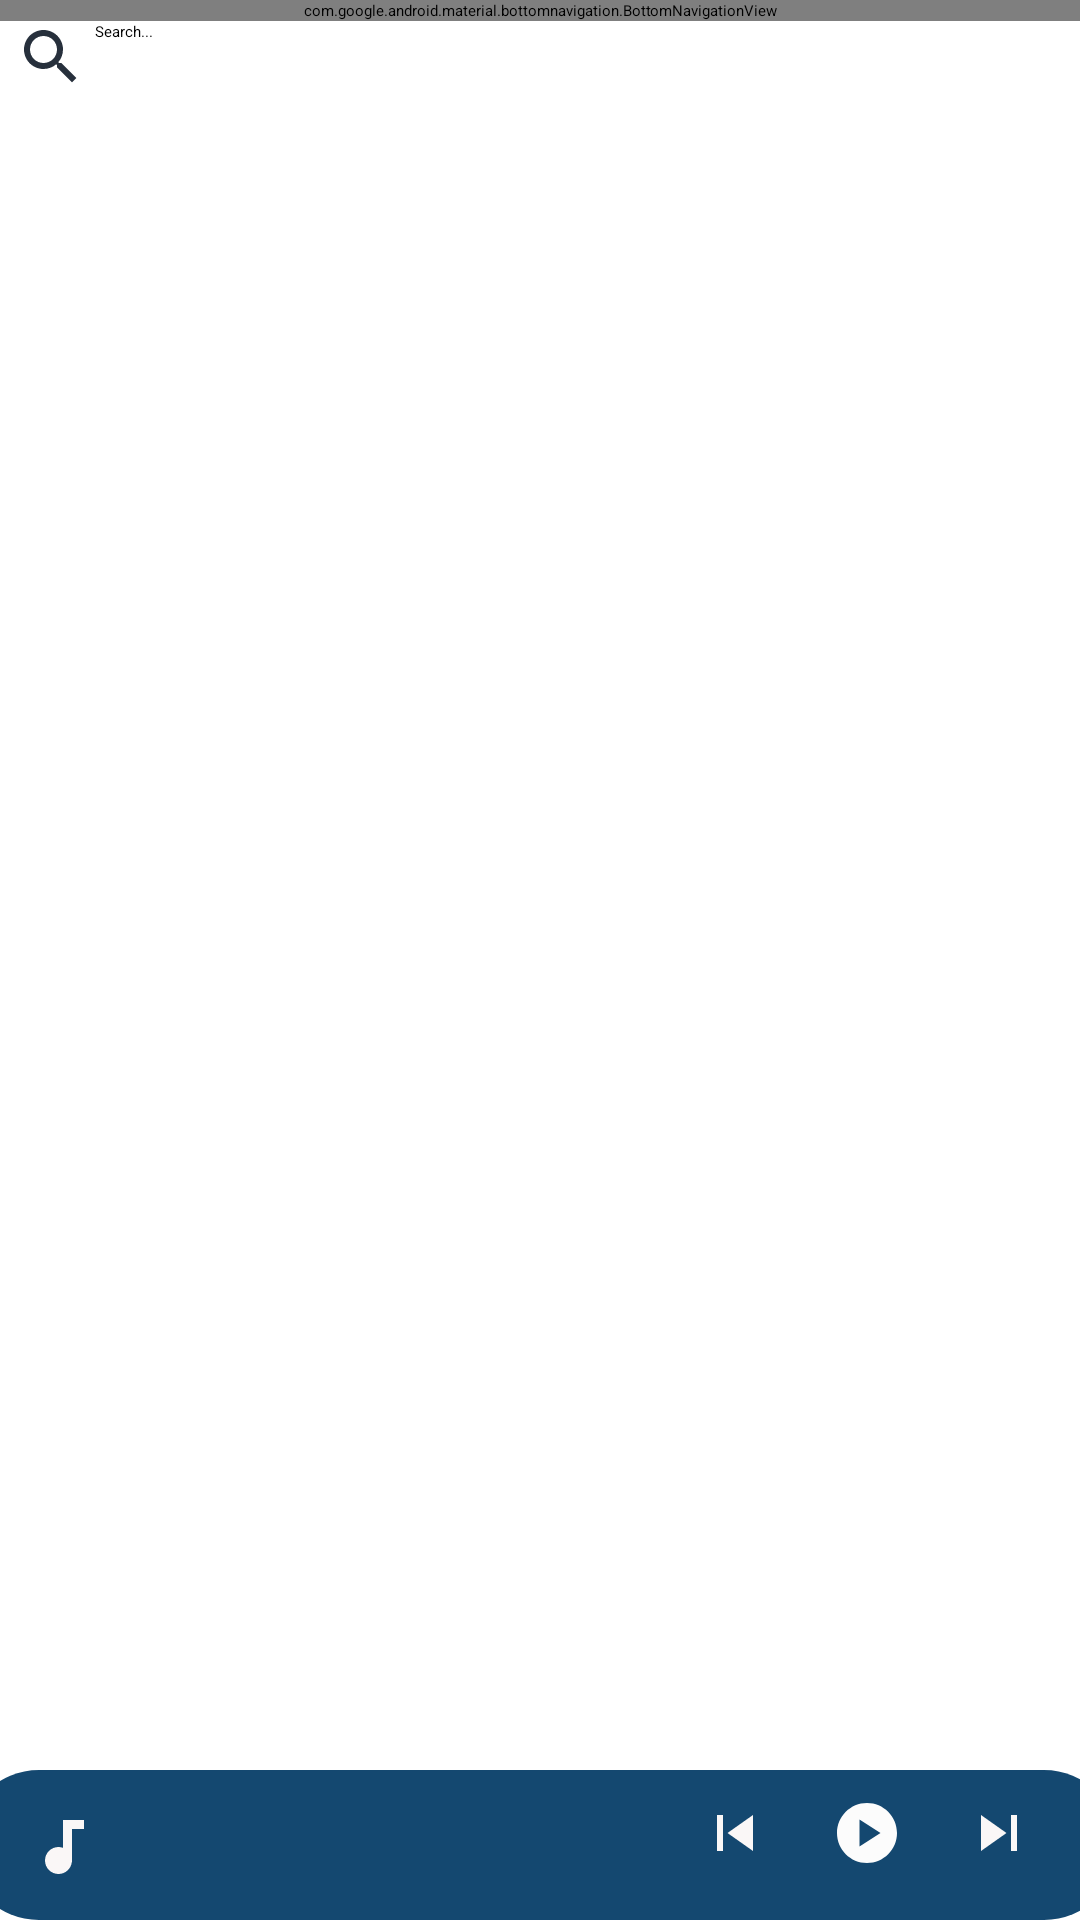

Icons on this 1080x1920 Android screen, each with the point to tap as [x,y]:
play circle: [867,1833]
skip next: [999,1833]
skip previous: [735,1833]
